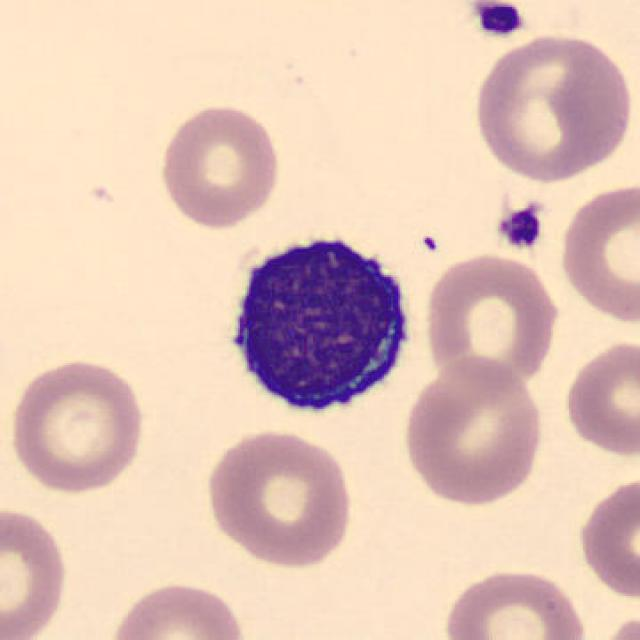Lymphocyte: (210, 220, 425, 427)
Platelets: (494, 203, 548, 252), (468, 0, 530, 41)
RBC: (468, 28, 636, 185), (398, 354, 548, 510), (201, 425, 357, 569), (5, 354, 150, 498), (422, 248, 564, 392), (154, 100, 284, 231), (555, 178, 638, 328), (439, 564, 590, 640), (558, 335, 640, 460), (0, 500, 71, 640), (105, 576, 251, 640), (574, 471, 640, 603), (590, 610, 638, 640)
